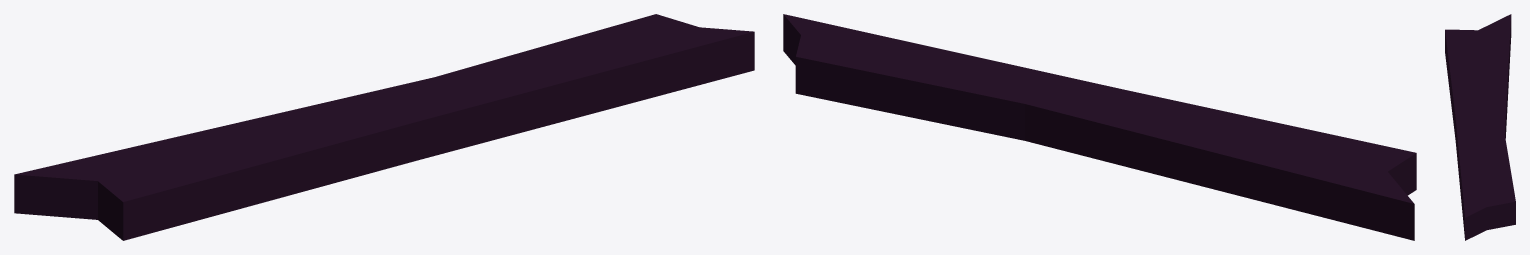
Rendered from prop_wood_broken_small2.FBX.
3 views of the same model, side by side, from view 1: azimuth 30°, elevation 25°; view 2: azimuth 150°, elevation 25°; view 3: azimuth 270°, elevation 25° (orthographic). The views are drawn at different scales.
Visible parts, largest first — view 1: Object010; view 2: Object010; view 3: Object010.
Part boxes in pixels (x1,y1,x2,y2): Object010: (14,14,754,240); Object010: (783,14,1416,240); Object010: (1445,14,1515,240).
Bounding box in the file's own units: 2.62 × 0.1384 × 0.385.
